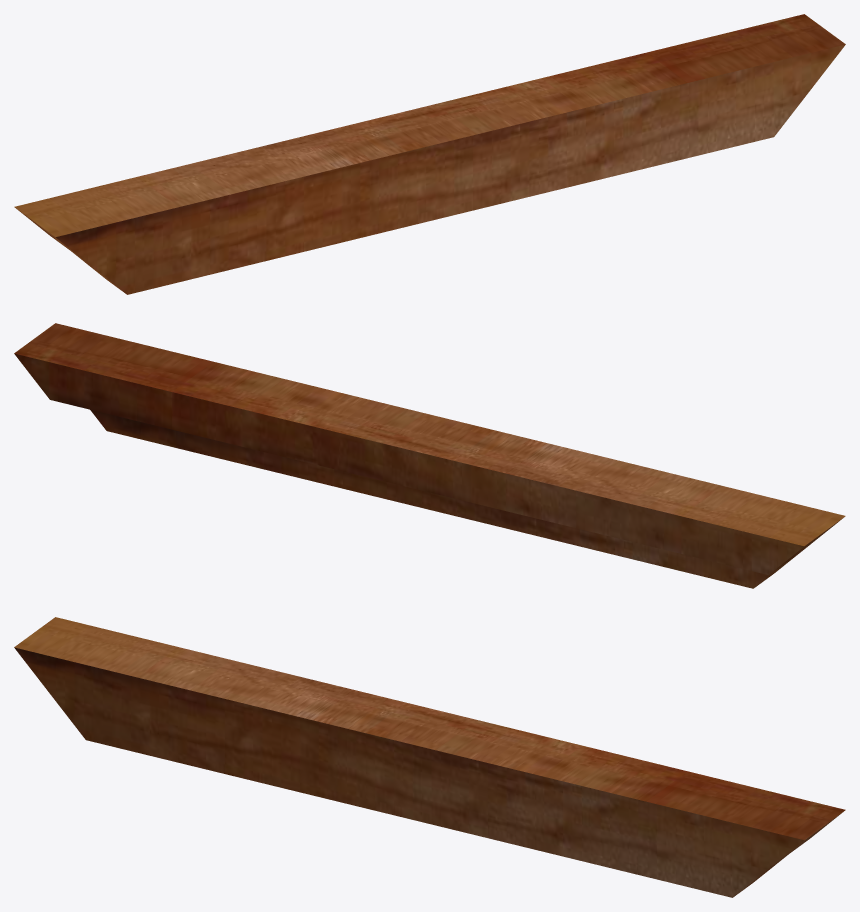
File: BaguetteBois4.gltf
The picture shows the model from 3 angles, top to bottom: view 1: azimuth 30°, elevation 25°; view 2: azimuth 150°, elevation 25°; view 3: azimuth 330°, elevation 25°; orthographic projection.
Visible parts, largest first — view 1: Baguette; view 2: Baguette; view 3: Baguette.
Part boxes in pixels (x1=…): Baguette: x1=14, y1=14, x2=845, y2=294; Baguette: x1=14, y1=323, x2=845, y2=588; Baguette: x1=14, y1=617, x2=845, y2=897.
Size of the model in its own units: 22 by 2 by 2.
1 material, 1 textured.
